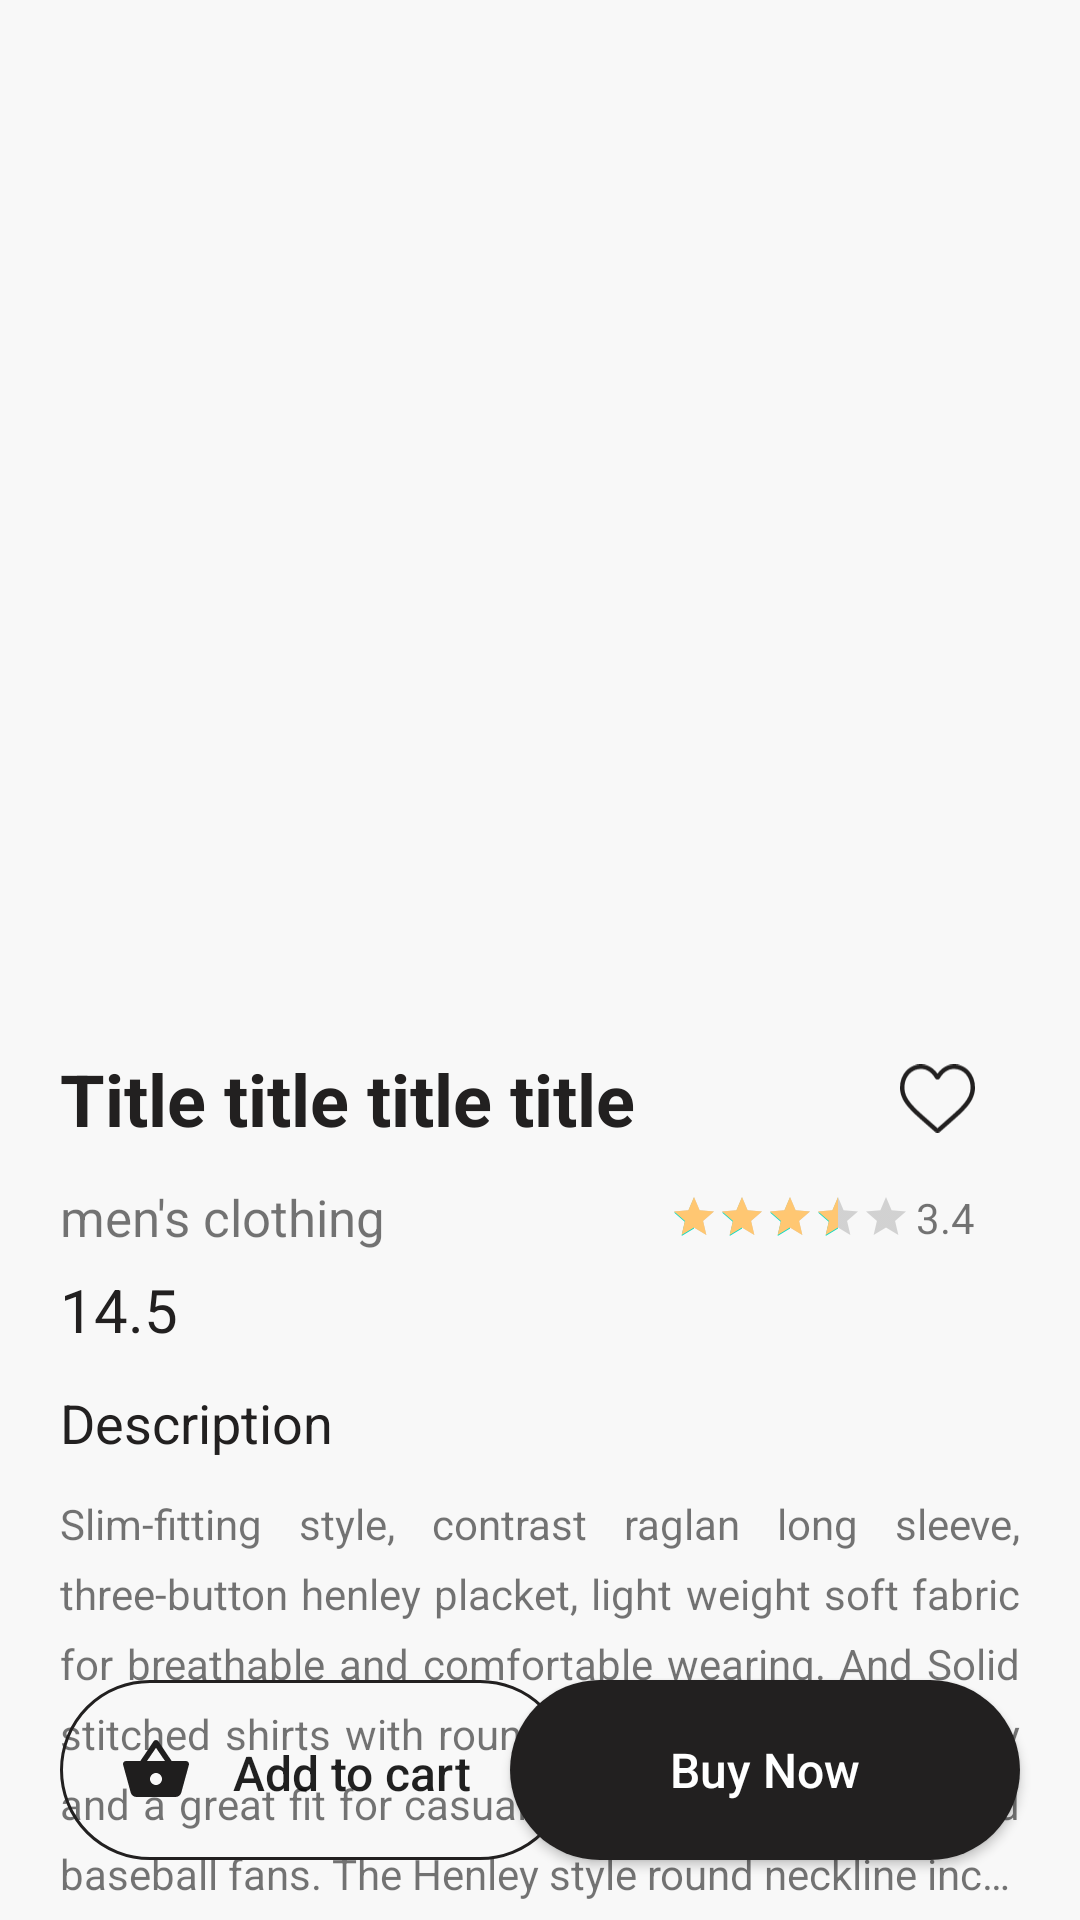

Icons on this 1080px x 1920px Android screen, each with its box as BBox(x1, y1, x2, y2):
heart: BBox(900, 1064, 975, 1133)
